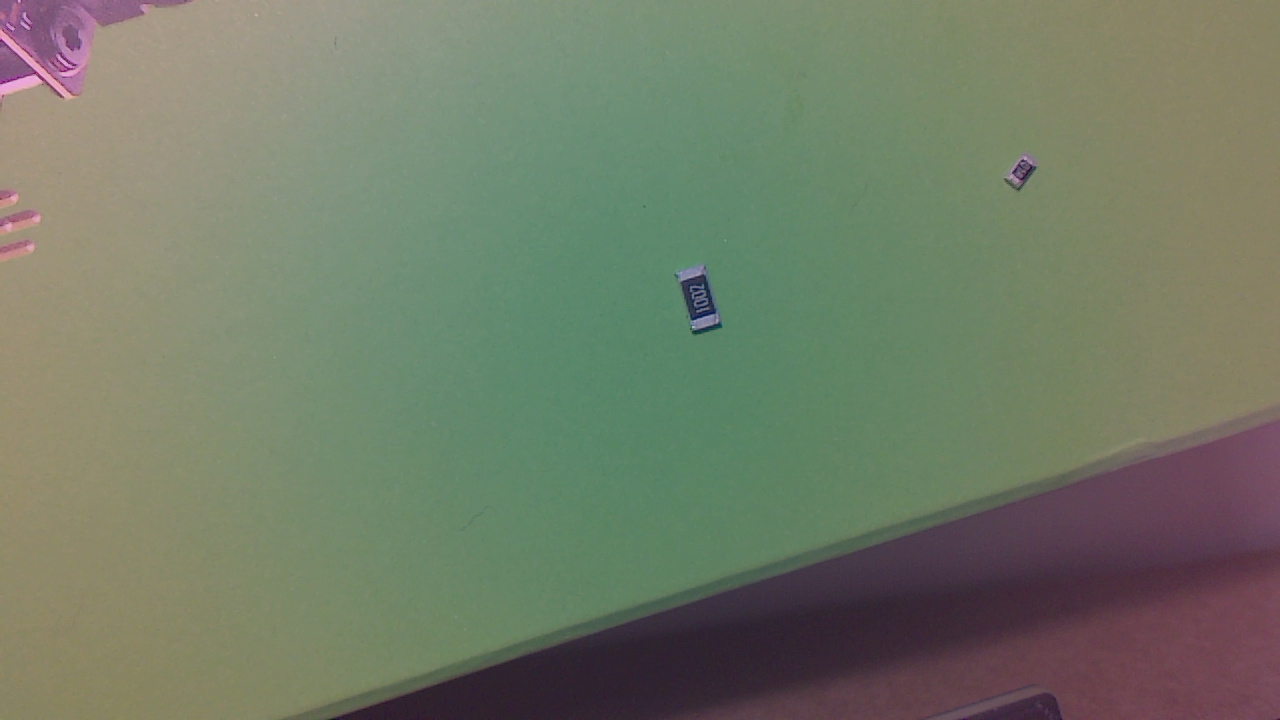Resistor: (678, 268, 729, 338), (1011, 157, 1040, 197)
